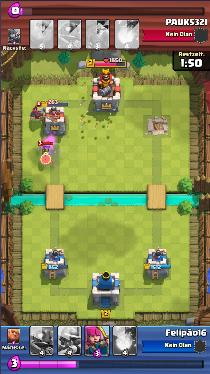enemy_arrow: (76, 78, 114, 128)
enemy_knight: (29, 104, 45, 122)
enemy_musketeer: (37, 142, 51, 156)
